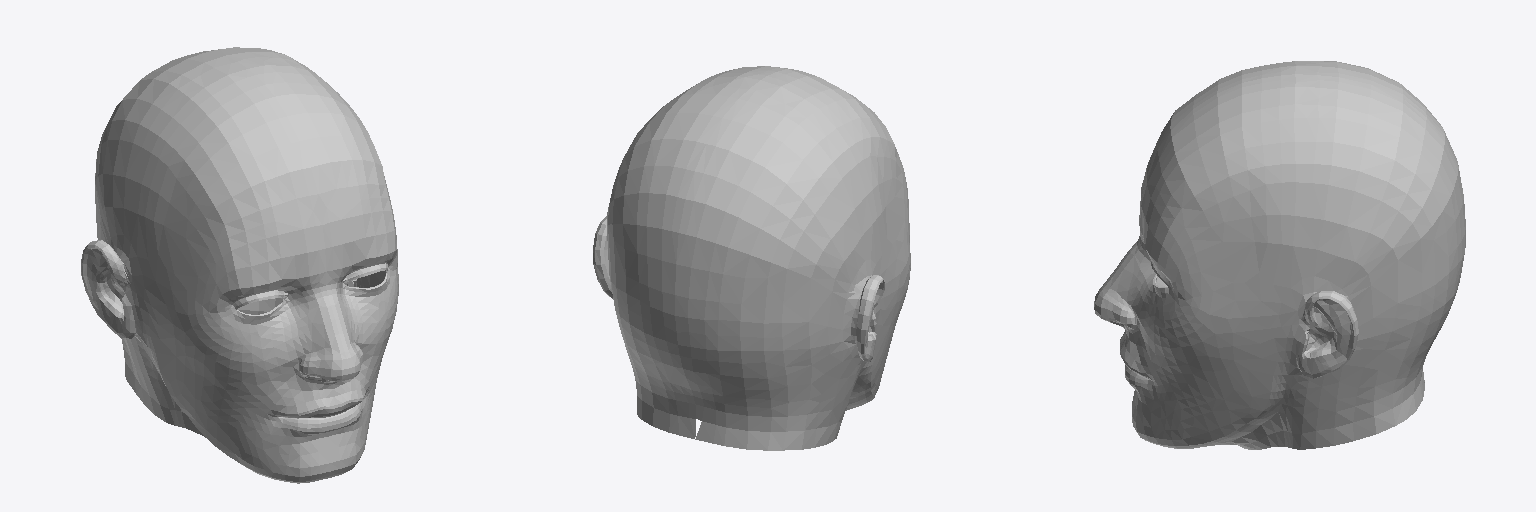
The model's file is head5k.obj.
The picture shows the model from 3 angles: view 1: azimuth 30°, elevation 25°; view 2: azimuth 150°, elevation 25°; view 3: azimuth 270°, elevation 25°; orthographic projection.
Parts seen in each view (by area): view 1: object0; view 2: object0; view 3: object0.
Part boxes in pixels (left/top/right/bottom): object0: left=81, top=47, right=398, bottom=483; object0: left=593, top=66, right=910, bottom=450; object0: left=1094, top=61, right=1465, bottom=449.
Size of the model in its own units: 1.96 by 2.44 by 2.27.